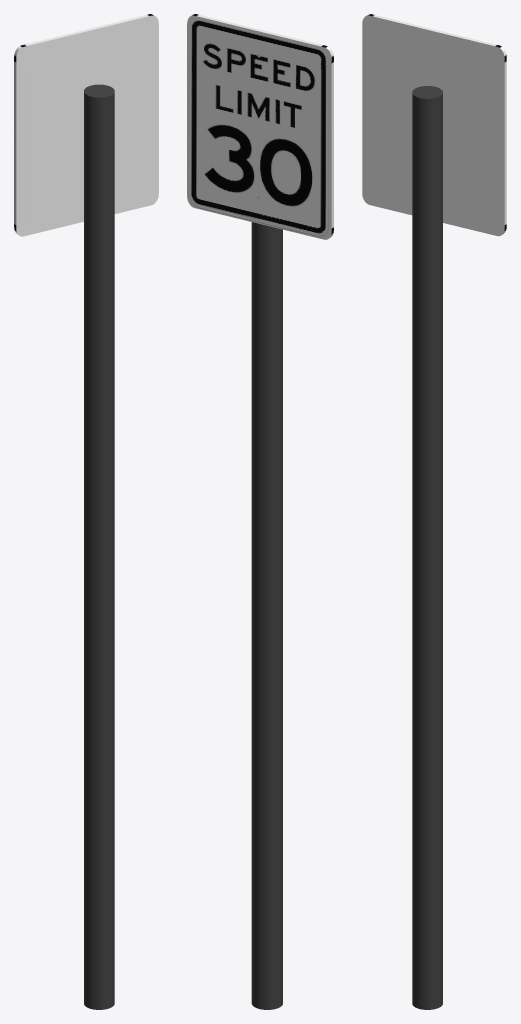
The model's file is SpeedLimitSign_30.fbx.
The picture shows the model from 3 angles, left to right: view 1: azimuth 30°, elevation 25°; view 2: azimuth 150°, elevation 25°; view 3: azimuth 330°, elevation 25°; orthographic projection.
Visible parts, largest first — view 1: SpeedSign_30; view 2: SpeedSign_30; view 3: SpeedSign_30.
Boxes of the visible parts, left/top/right/bottom form: SpeedSign_30: left=14, top=14, right=158, bottom=1009; SpeedSign_30: left=187, top=14, right=333, bottom=1009; SpeedSign_30: left=362, top=14, right=506, bottom=1009.
Bounding box in the file's own units: 78.7 × 510 × 17.78.
2 materials, 1 textured.
